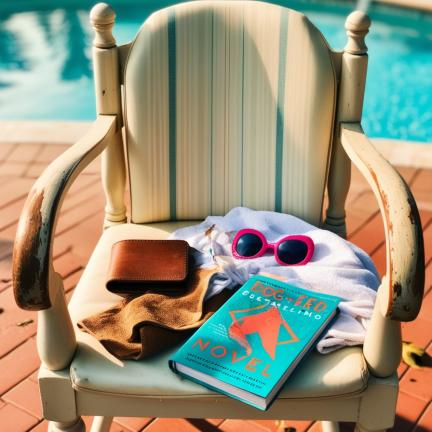occupied chair: (13, 2, 424, 432)
